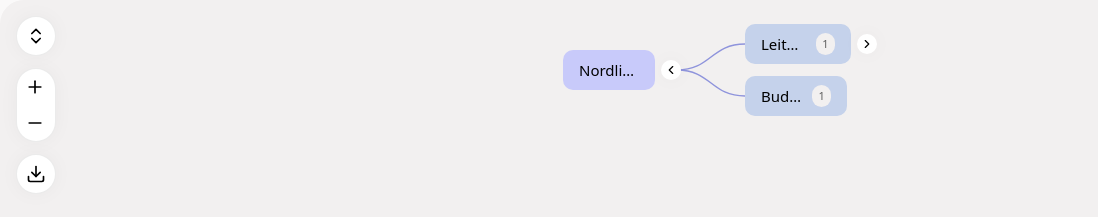
it: MindmapView › opens everything at once and goes back to the start with the same button
Click the button named "Alle Knoten aufklappen" at x=36, y=36, box [16,16,56,56]
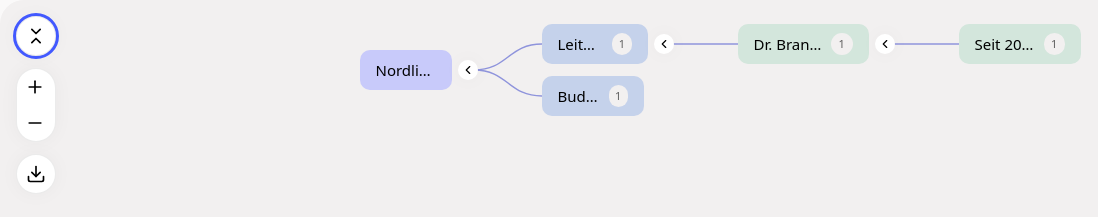
Check: the text "Seit 2024" is shown, box [974,34,1036,54]
Click the button named "Alle Knoten zuklappen" at x=36, y=36, box [16,16,56,56]
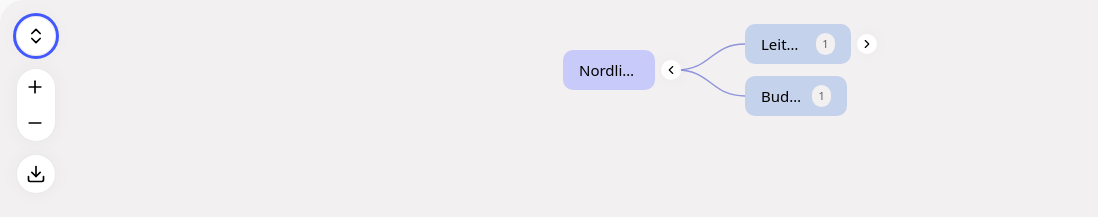
Check: the text "Leitung" is shown, box [761,34,808,54]
Check: the text "Dr. Brandt" is gone
